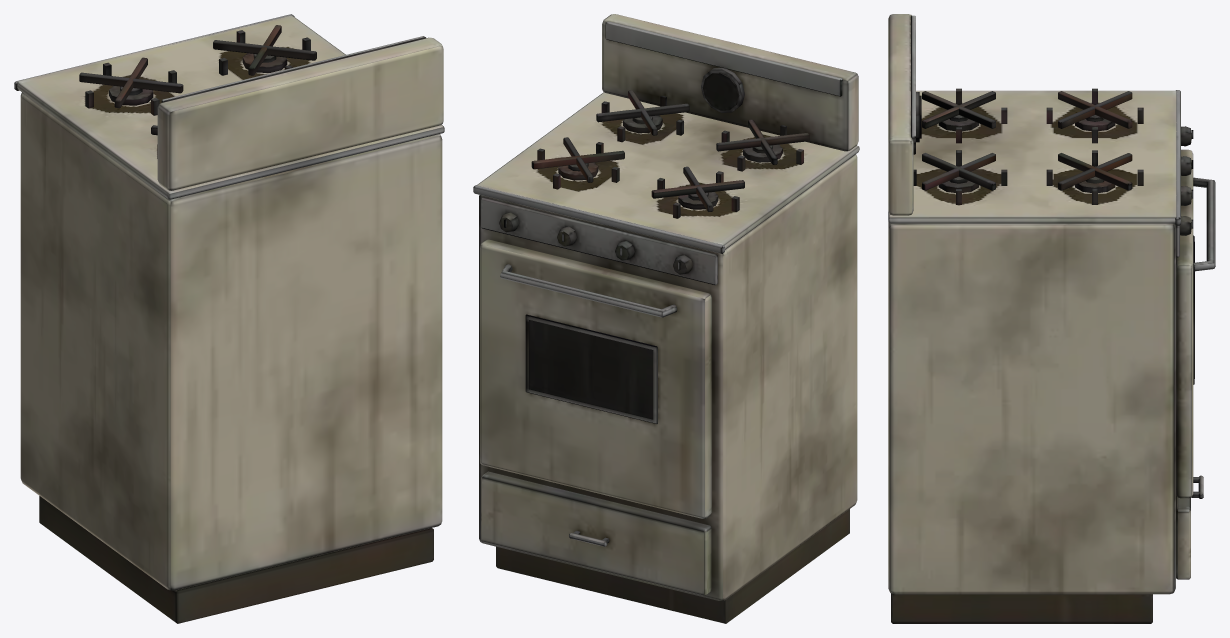
The model's file is furniture_counter_stove.glb.
3 renders of one model, left to right at view 1: azimuth 30°, elevation 25°; view 2: azimuth 150°, elevation 25°; view 3: azimuth 270°, elevation 25°, orthographic. The views are drawn at different scales.
Parts seen in each view (by area): view 1: furniture_counter_stove; view 2: furniture_counter_stove; view 3: furniture_counter_stove.
Part boxes in pixels (bbox=[...]): furniture_counter_stove: bbox=[14, 14, 444, 623]; furniture_counter_stove: bbox=[473, 14, 859, 623]; furniture_counter_stove: bbox=[888, 14, 1215, 623].
Size of the model in its own units: 0.604 by 1.07 by 0.649.
Materials: 1 (1 with a texture image).
